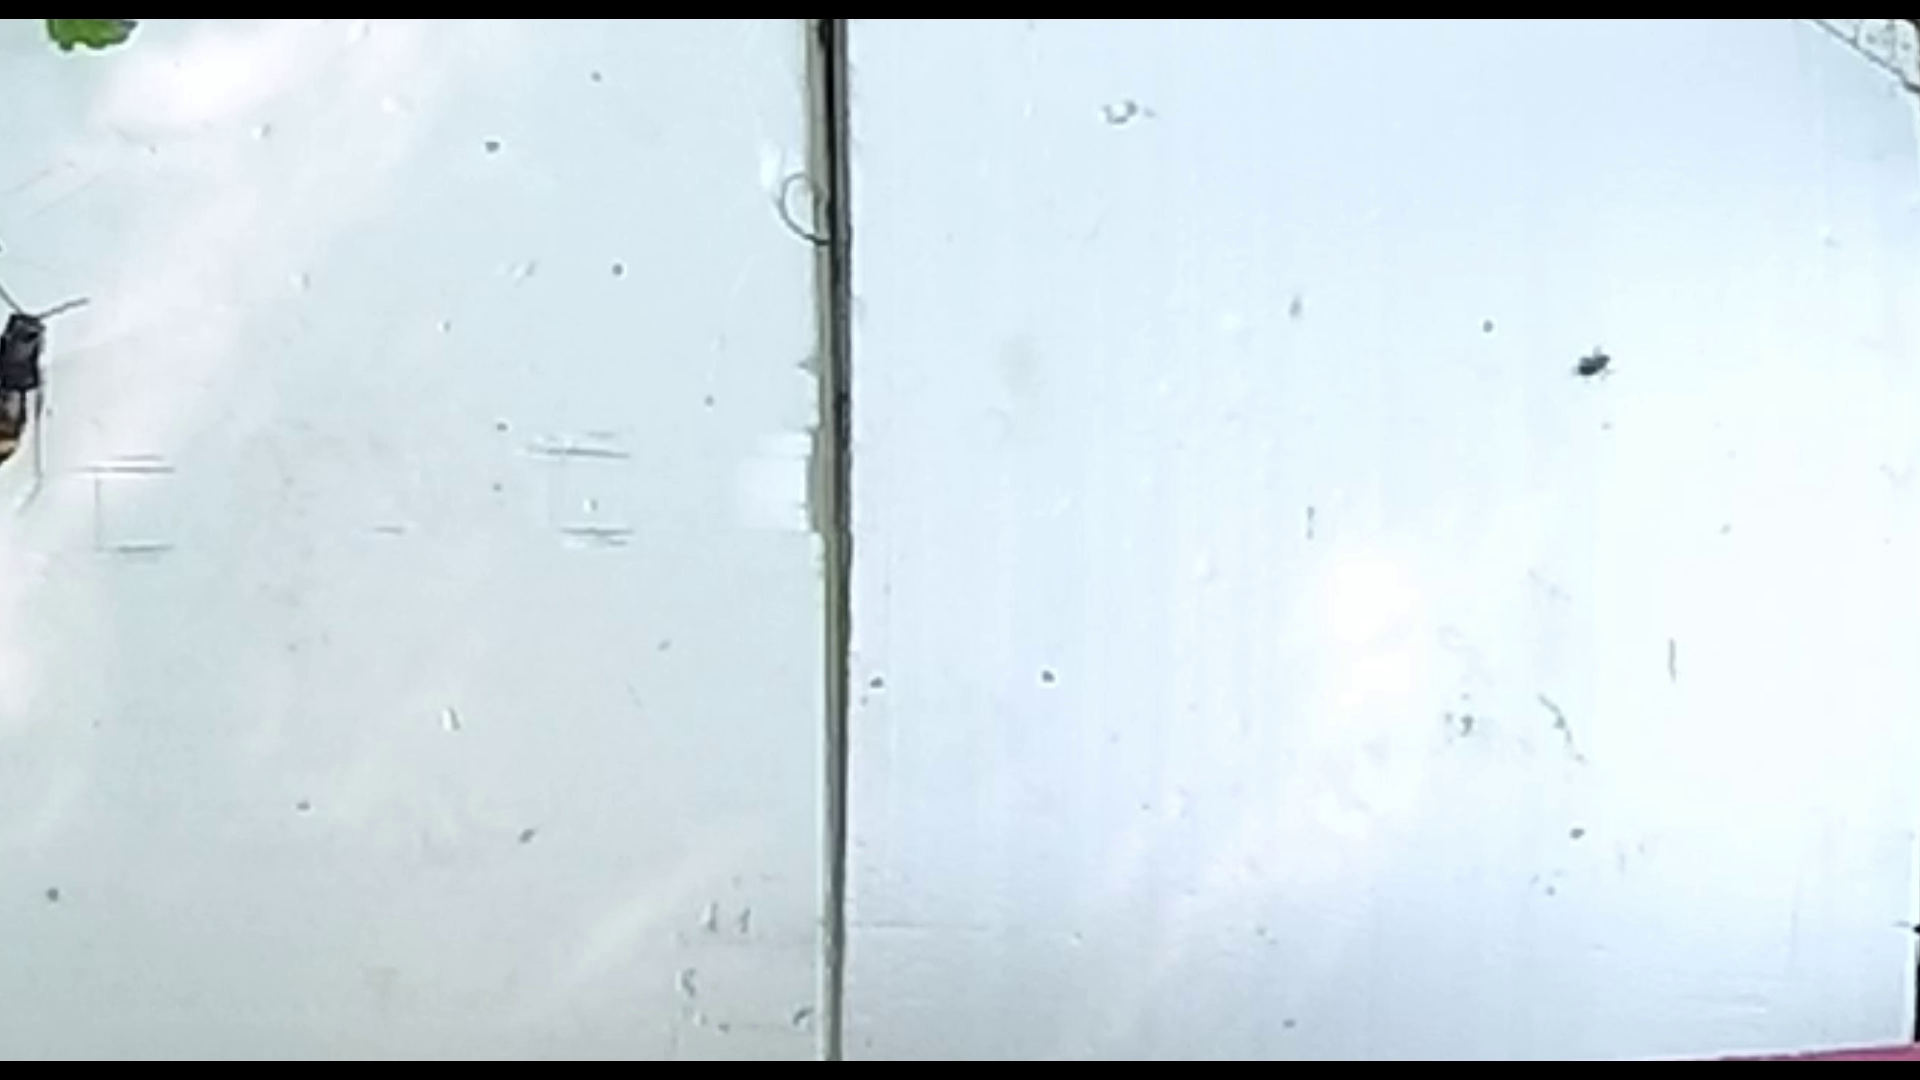Asian_hornets: (0, 272, 96, 502)
